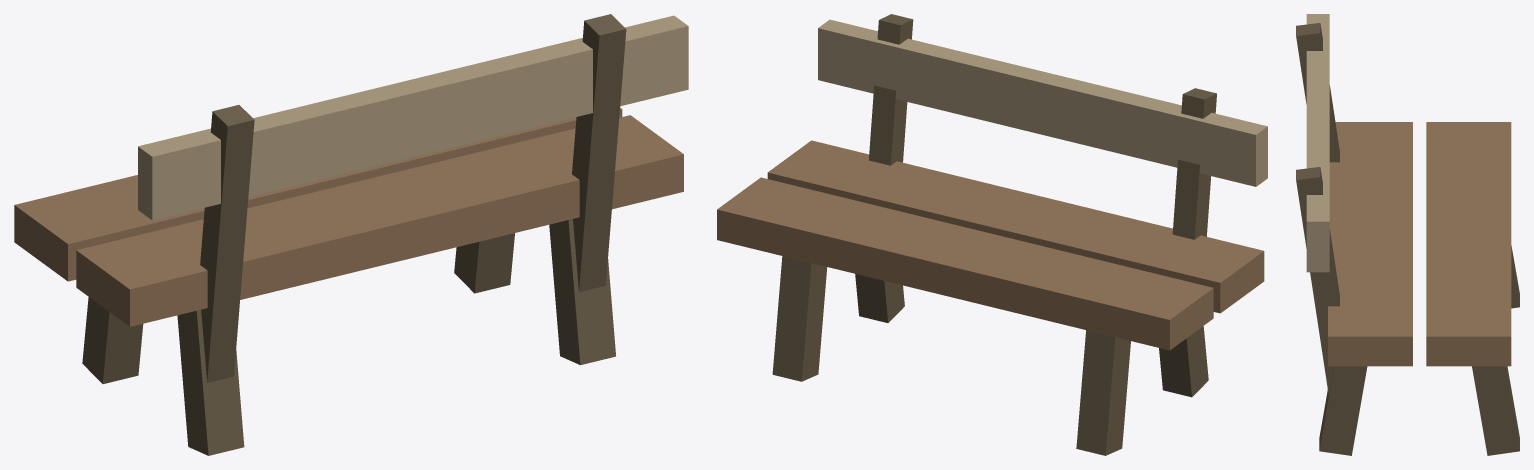
The model's file is qc_bench.obj.
3 renders of one model, left to right at view 1: azimuth 30°, elevation 25°; view 2: azimuth 150°, elevation 25°; view 3: azimuth 270°, elevation 25°, orthographic. The views are drawn at different scales.
Parts seen in each view (by area): view 1: qc_bench; view 2: qc_bench; view 3: qc_bench.
Boxes of the visible parts, bbox=[...] form: qc_bench: bbox=[14, 14, 688, 455]; qc_bench: bbox=[717, 14, 1267, 455]; qc_bench: bbox=[1296, 14, 1519, 455].
Size of the model in its own units: 1.55 by 0.9329 by 0.683.
